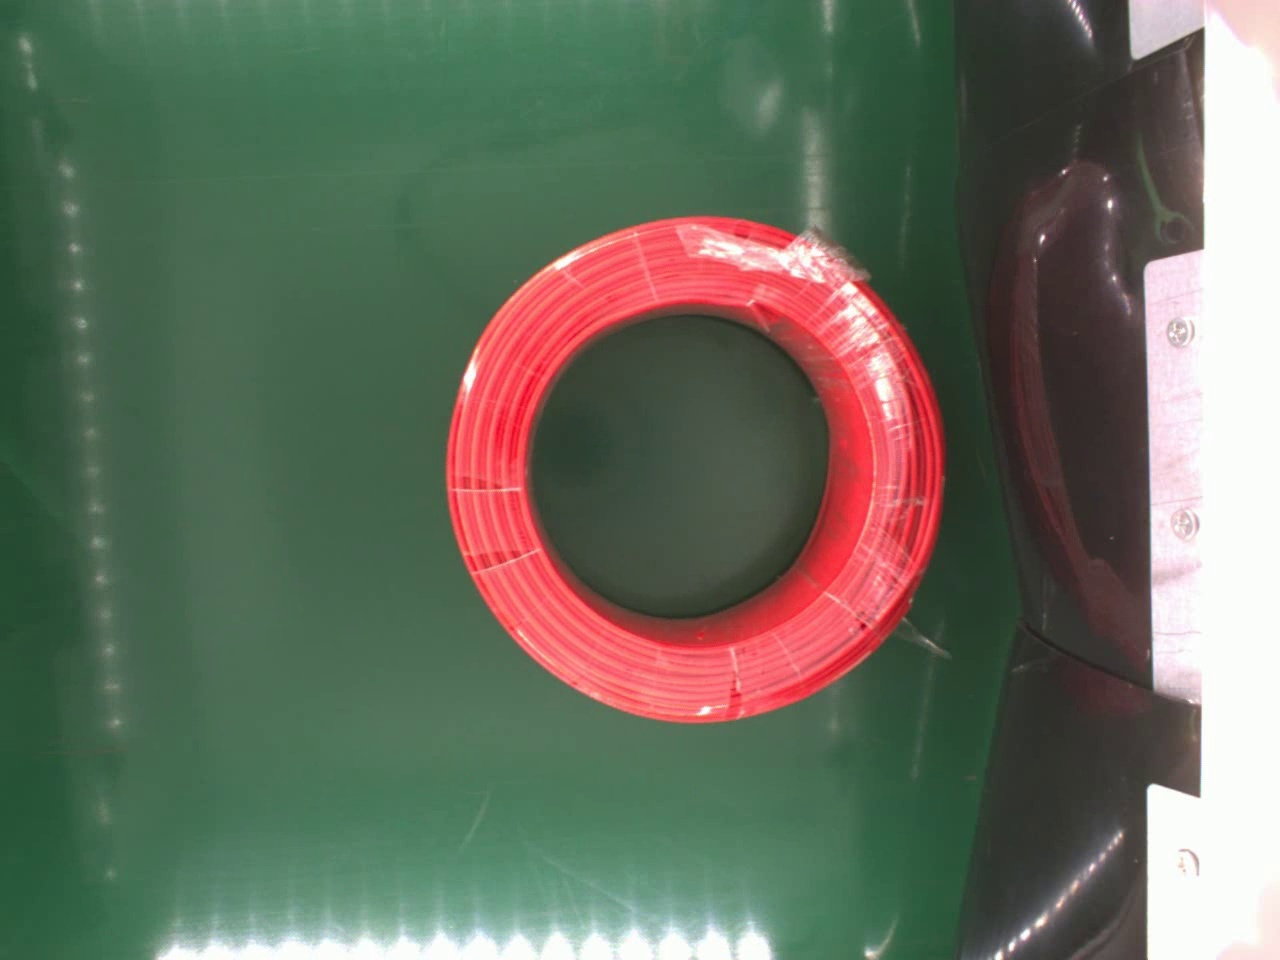red: (438, 202, 951, 722)
